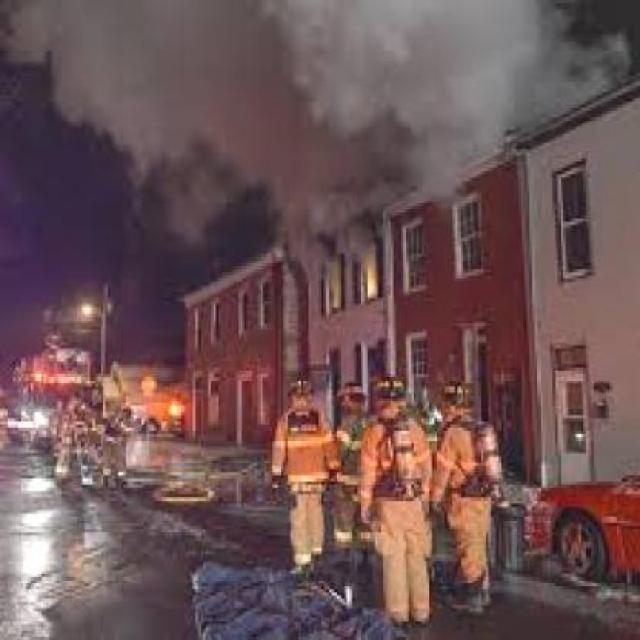Smoke: (0, 0, 638, 264)
